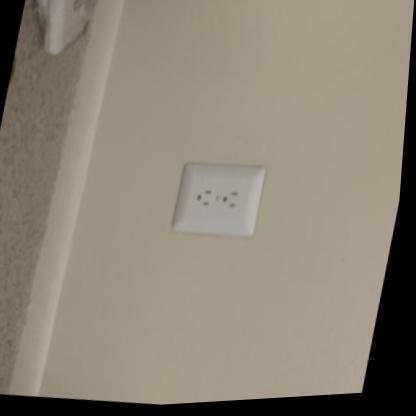OUTLET: (168, 152, 268, 241)
